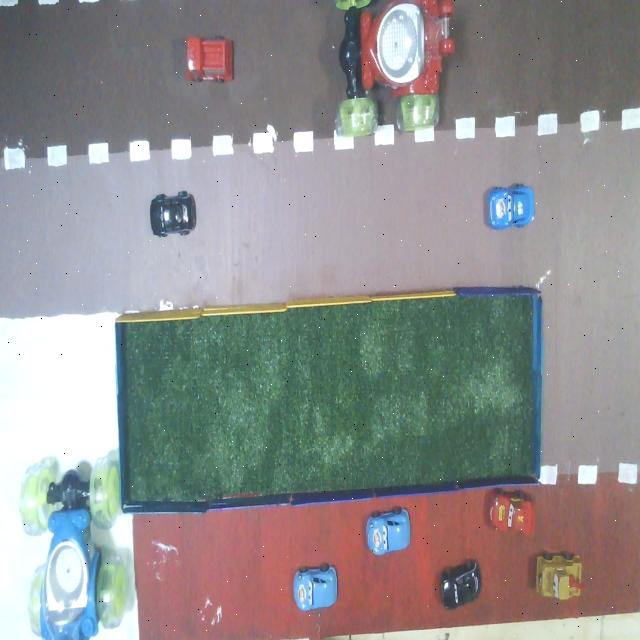driver car f: (20, 457, 127, 639)
small cars: (150, 191, 196, 237), (489, 489, 535, 535), (536, 554, 581, 600), (187, 37, 233, 82), (366, 508, 410, 555), (488, 185, 534, 229), (294, 564, 337, 610), (441, 560, 481, 609)
